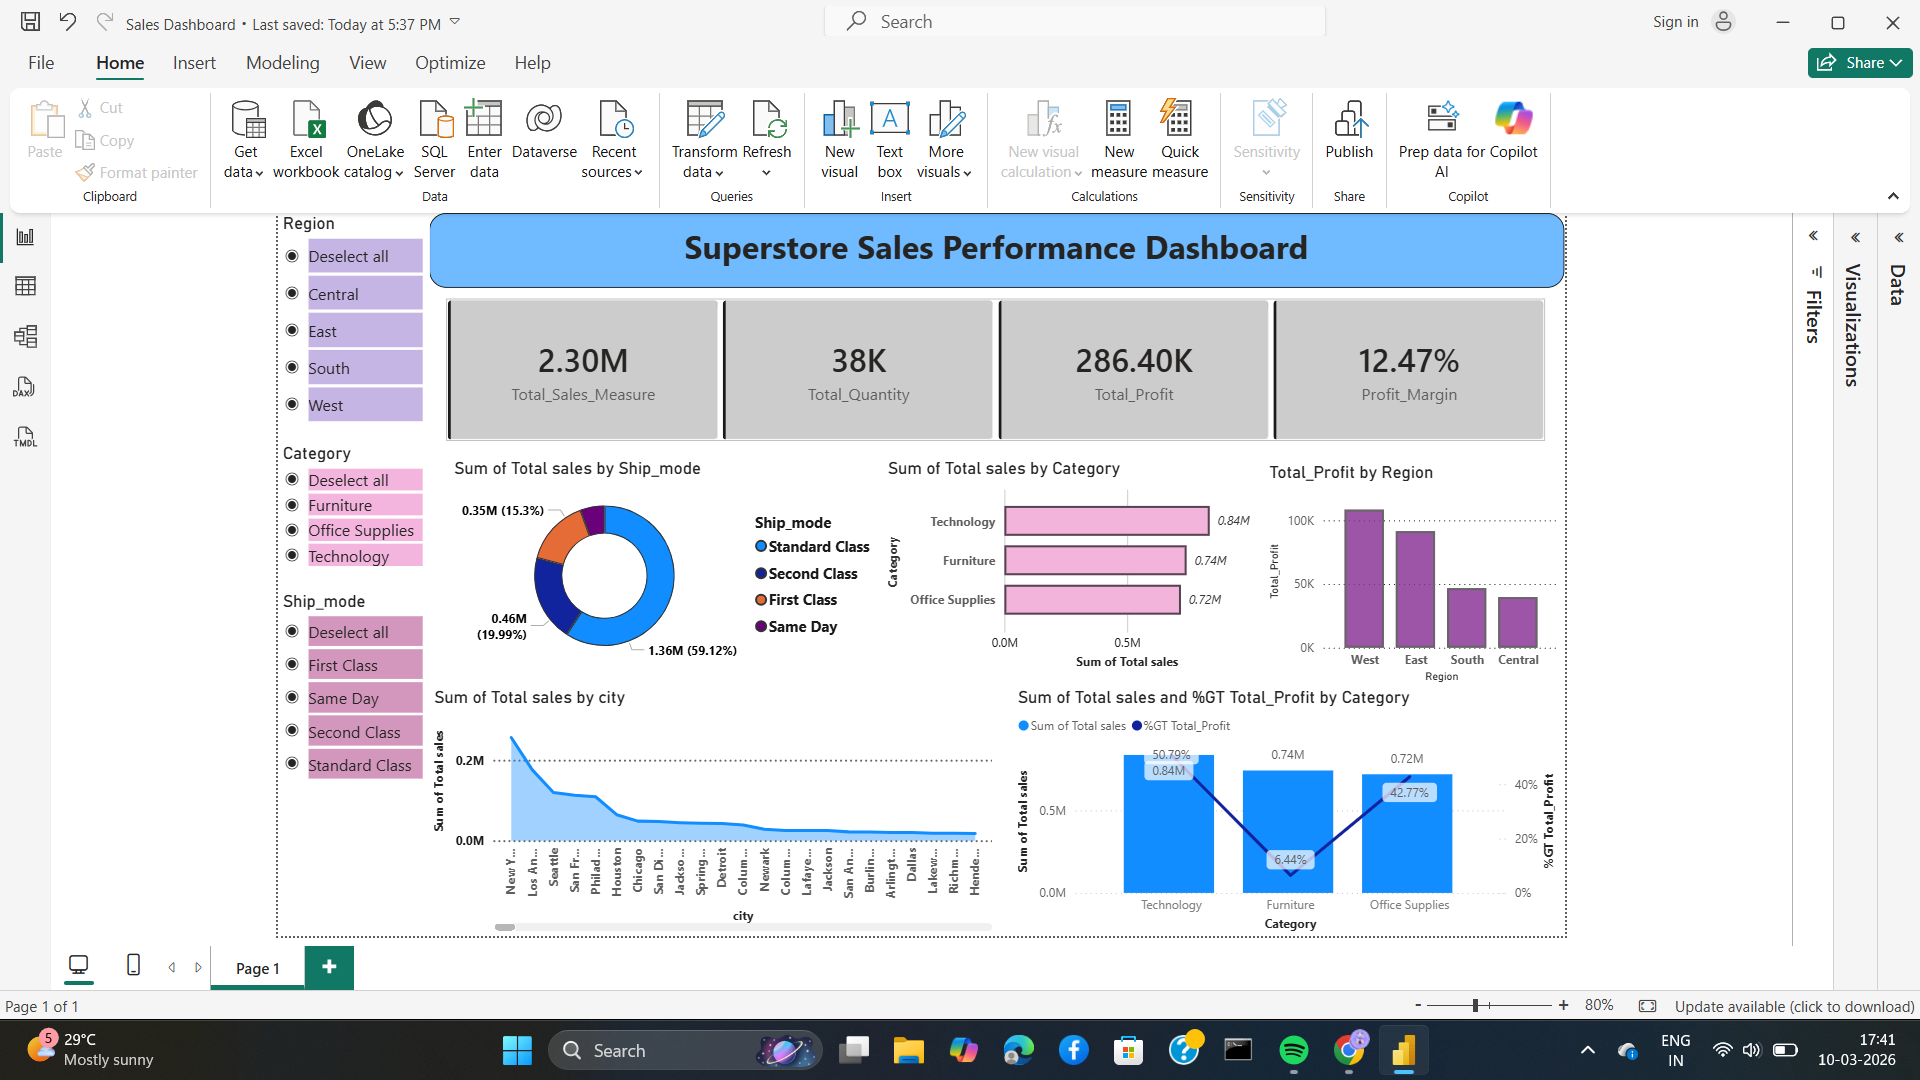

The dashboard page shown, as its layout file describes it:
{"tool":"powerbi","page":{"name":"Page 1","canvas":[1280,720],"ordinal":0},"visuals":[{"type":"cardVisual","fields":{"Data":["superstore_data.Total_Sales_Measure","superstore_data.Total_Quantity","superstore_data.Total_Profit","superstore_data.Profit_Margin"]},"box":[150.9,68.6,1129.3,175.6],"z":0},{"type":"textbox","box":[150.9,0,1129.3,74.1],"z":1000},{"type":"textbox","box":[0,496,1280,196],"z":2000},{"type":"clusteredBarChart","fields":{"Category":["superstore_data.category"],"Y":["Sum(superstore_data.Total sales)"]},"box":[602.4,244.3,384.2,215.4],"z":3000},{"type":"clusteredColumnChart","fields":{"Category":["superstore_data.region"],"Y":["superstore_data.Total_Profit"]},"box":[981.1,247,299.1,225],"z":4000},{"type":"donutChart","fields":{"Category":["superstore_data.ship_mode"],"Y":["Sum(superstore_data.Total sales)"]},"box":[170.2,244.3,432.2,215.4],"z":5000},{"type":"areaChart","fields":{"Category":["superstore_data.city"],"Y":["Sum(superstore_data.Total sales)"]},"box":[150.9,472,565.4,248.4],"z":6000},{"type":"listSlicer","fields":{"Values":["superstore_data.Region"]},"box":[0,0,150.9,332.1],"z":6001},{"type":"listSlicer","fields":{"Values":["superstore_data.Category"]},"box":[0,229.2,150.9,230.5],"z":6002},{"type":"listSlicer","fields":{"Values":["superstore_data.Ship_mode"]},"box":[0,376,150.9,293.7],"z":6003},{"type":"lineClusteredColumnComboChart","fields":{"Category":["superstore_data.Category"],"Y":["Sum(superstore_data.Total sales)"],"Y2":["superstore_data.Total_Profit"]},"box":[731.4,472,548.9,248.4],"z":6004}]}

Visuals, with their boxes on the page's 1280x720 design canvas (x1, y1, x2, y2). These are canvas units, not pixel positions in the 1920x1080 screenshot, which may show the page scaled, cropped or inside an application window:
cardVisual - superstore_data.Total_Sales_Measure x superstore_data.Total_Quantity: <box>151,69,1280,244</box>
textbox: <box>151,0,1280,74</box>
textbox: <box>0,496,1280,692</box>
clusteredBarChart - superstore_data.category x Sum(superstore_data.Total sales): <box>602,244,987,460</box>
clusteredColumnChart - superstore_data.region x superstore_data.Total_Profit: <box>981,247,1280,472</box>
donutChart - superstore_data.ship_mode x Sum(superstore_data.Total sales): <box>170,244,602,460</box>
areaChart - superstore_data.city x Sum(superstore_data.Total sales): <box>151,472,716,720</box>
listSlicer - superstore_data.Region: <box>0,0,151,332</box>
listSlicer - superstore_data.Category: <box>0,229,151,460</box>
listSlicer - superstore_data.Ship_mode: <box>0,376,151,670</box>
lineClusteredColumnComboChart - superstore_data.Category x Sum(superstore_data.Total sales): <box>731,472,1280,720</box>
